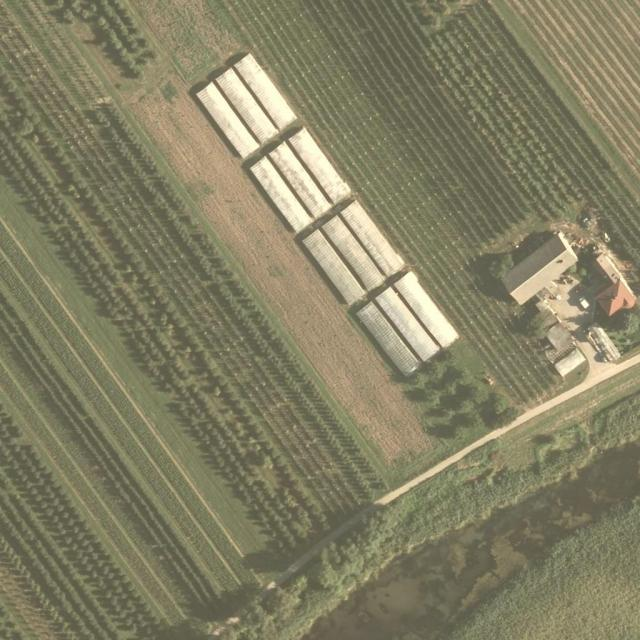building: (192, 52, 466, 386), (495, 206, 640, 387)
